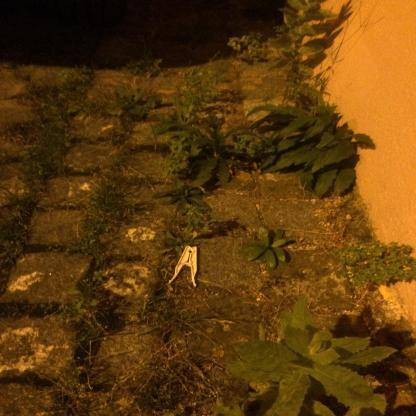plastik: (169, 247, 199, 289)
